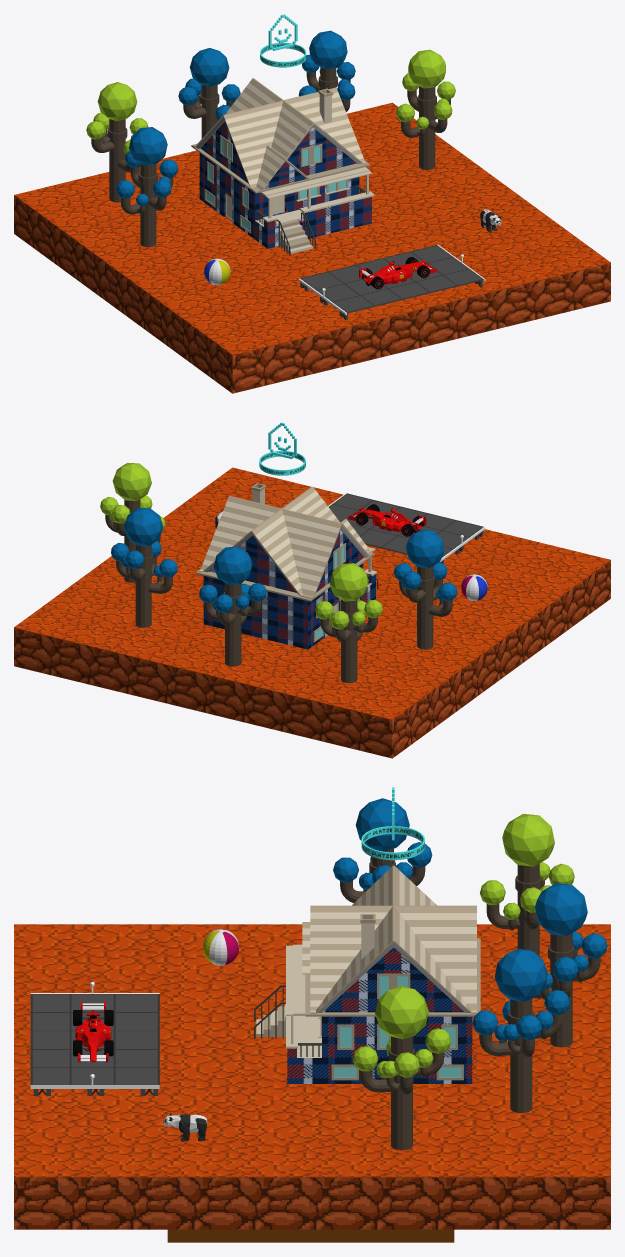
3 renders of one model, top to bottom at view 1: azimuth 30°, elevation 25°; view 2: azimuth 150°, elevation 25°; view 3: azimuth 270°, elevation 25°, orthographic. The views are drawn at different scales.
Visible parts, largest first — view 1: Cube.001, Cube.171, VEHICLES_FORMULA_1, TYPE_PREMIUM, OBJRANDOM_BEACHBALL; view 2: Cube.001, Cube.171, VEHICLES_FORMULA_1, TYPE_PREMIUM, OBJRANDOM_BEACHBALL; view 3: Cube.001, Cube.171, UNDERGROUND_ART_PIECE_VAN_GOGH, VEHICLES_FORMULA_1, TYPE_PREMIUM, OBJRANDOM_BEACHBALL, ANIMAL_PANDA.
Boxes of the visible parts, <box> form: Cube.001: <box>14,30,610,393</box>; Cube.171: <box>191,78,374,255</box>; VEHICLES_FORMULA_1: <box>359,257,436,289</box>; TYPE_PREMIUM: <box>260,14,306,67</box>; OBJRANDOM_BEACHBALL: <box>204,258,230,285</box>; Cube.001: <box>14,462,610,758</box>; Cube.171: <box>196,483,378,649</box>; VEHICLES_FORMULA_1: <box>348,504,426,536</box>; TYPE_PREMIUM: <box>259,422,305,475</box>; OBJRANDOM_BEACHBALL: <box>461,574,487,600</box>; Cube.001: <box>14,798,610,1229</box>; Cube.171: <box>254,865,480,1083</box>; UNDERGROUND_ART_PIECE_VAN_GOGH: <box>167,1229,454,1242</box>; VEHICLES_FORMULA_1: <box>73,1001,113,1062</box>; TYPE_PREMIUM: <box>361,787,424,860</box>; OBJRANDOM_BEACHBALL: <box>203,929,238,965</box>; ANIMAL_PANDA: <box>163,1113,207,1141</box>.
Size of the model in its own units: 4000 by 2536 by 4000.
34 materials, 7 textured.
